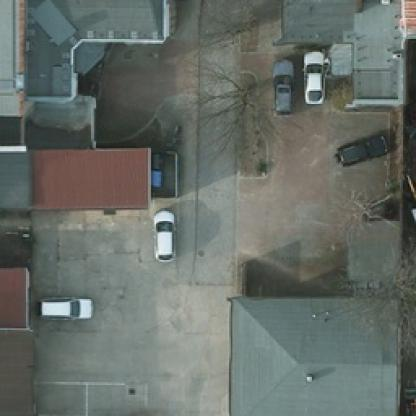car: (336, 122, 392, 169), (266, 62, 296, 117), (34, 292, 91, 318), (299, 48, 325, 102), (151, 208, 176, 262)
